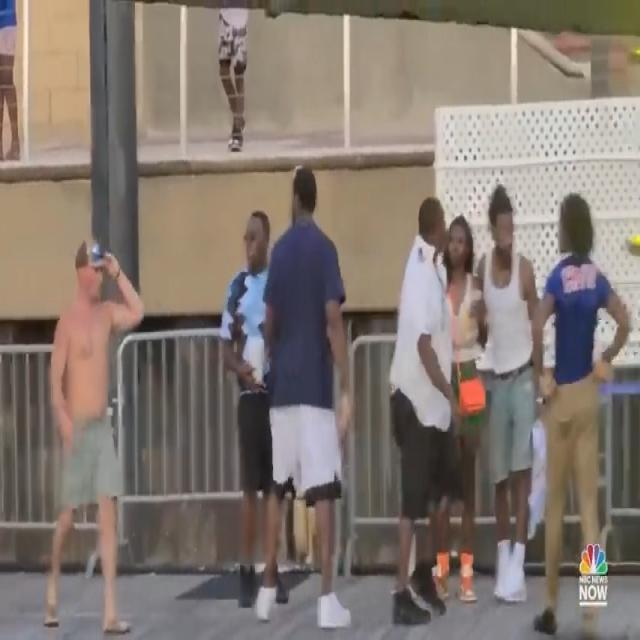non-fight: (391, 174, 634, 640), (210, 170, 368, 640), (45, 230, 160, 640)
